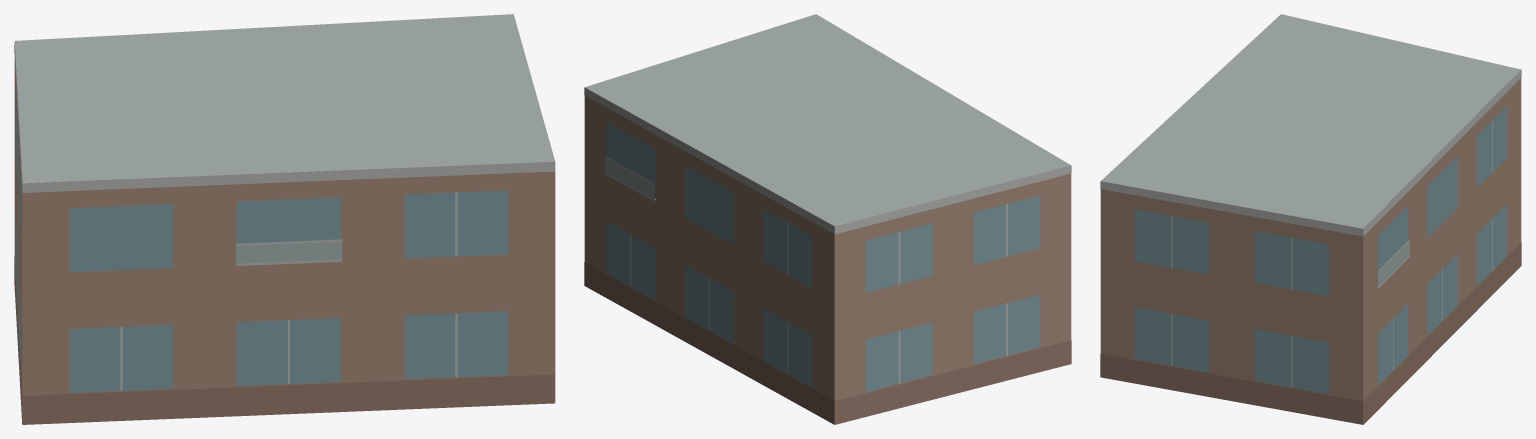
Rendered from survey-upis-32851950.glb.
3 renders of one model, left to right at view 1: azimuth 30°, elevation 25°; view 2: azimuth 150°, elevation 25°; view 3: azimuth 270°, elevation 25°, orthographic. The views are drawn at different scales.
Visible parts, largest first — view 1: survey-upis-32851950.tmp; view 2: survey-upis-32851950.tmp; view 3: survey-upis-32851950.tmp.
Boxes of the visible parts, x1,y1,x2,y2 form: survey-upis-32851950.tmp: (14, 14, 555, 424); survey-upis-32851950.tmp: (584, 14, 1071, 424); survey-upis-32851950.tmp: (1100, 14, 1521, 424).
Size of the model in its own units: 14.34 by 6.1 by 11.88.
